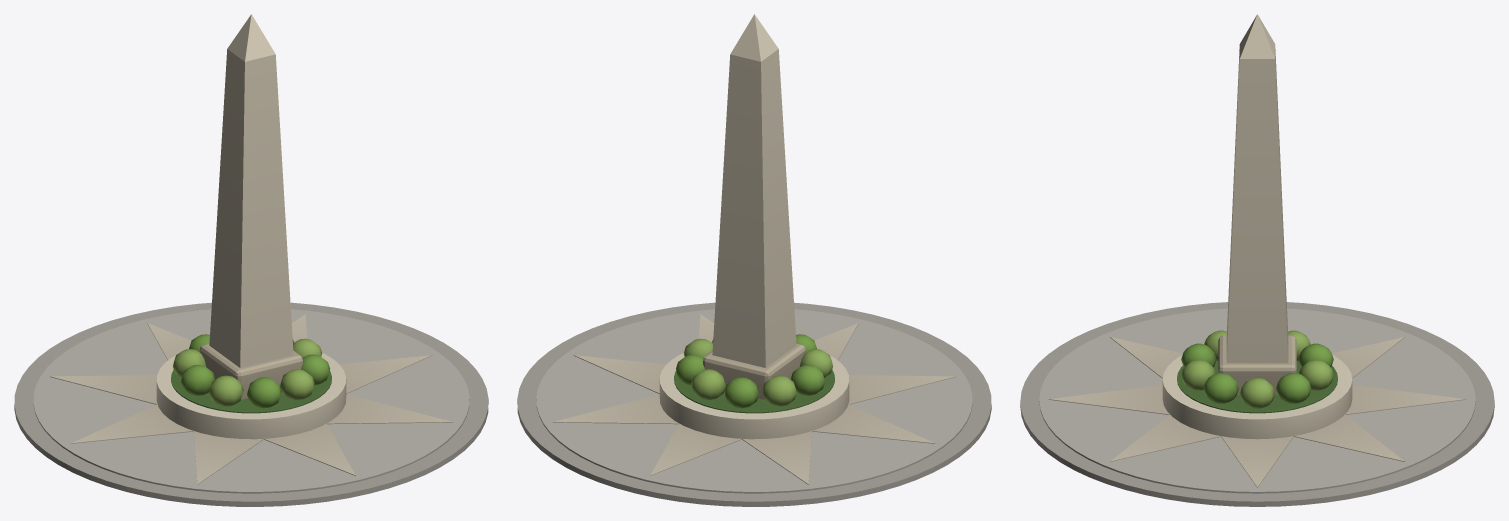
The model's file is plaza.glb.
3 views of the same model, side by side, from view 1: azimuth 30°, elevation 25°; view 2: azimuth 150°, elevation 25°; view 3: azimuth 270°, elevation 25° (orthographic).
Parts seen in each view (by area): view 1: plaza; view 2: plaza; view 3: plaza.
Boxes of the visible parts, bbox=[...] form: plaza: bbox=[14, 14, 488, 506]; plaza: bbox=[517, 14, 991, 506]; plaza: bbox=[1020, 14, 1494, 506].
Bounding box in the file's own units: 4 × 3.66 × 4.
